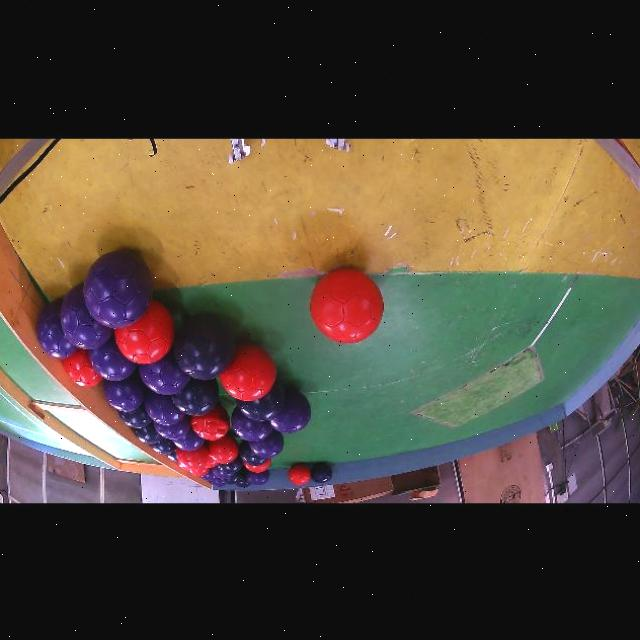B: (174, 315, 235, 381), (236, 381, 285, 421), (171, 378, 219, 416), (118, 404, 152, 429), (238, 440, 268, 465), (133, 422, 163, 444), (218, 455, 242, 474), (311, 463, 332, 483), (150, 438, 176, 454), (236, 474, 251, 488), (225, 472, 241, 484), (168, 451, 178, 463)
P: (84, 251, 152, 329), (60, 285, 112, 350), (36, 300, 78, 359), (138, 349, 190, 394), (88, 336, 136, 381), (270, 389, 312, 434), (103, 372, 146, 412), (231, 407, 273, 441), (145, 390, 184, 425), (249, 430, 284, 459), (154, 415, 190, 439), (173, 427, 204, 451), (211, 457, 242, 479), (246, 470, 270, 486), (201, 470, 217, 482), (209, 478, 226, 487)
R: (311, 269, 383, 344), (114, 301, 175, 364), (219, 344, 276, 401), (64, 349, 102, 387), (190, 405, 230, 440), (208, 434, 238, 464), (175, 445, 208, 469), (288, 464, 311, 486), (244, 460, 271, 473), (189, 468, 209, 477), (206, 456, 218, 468)
